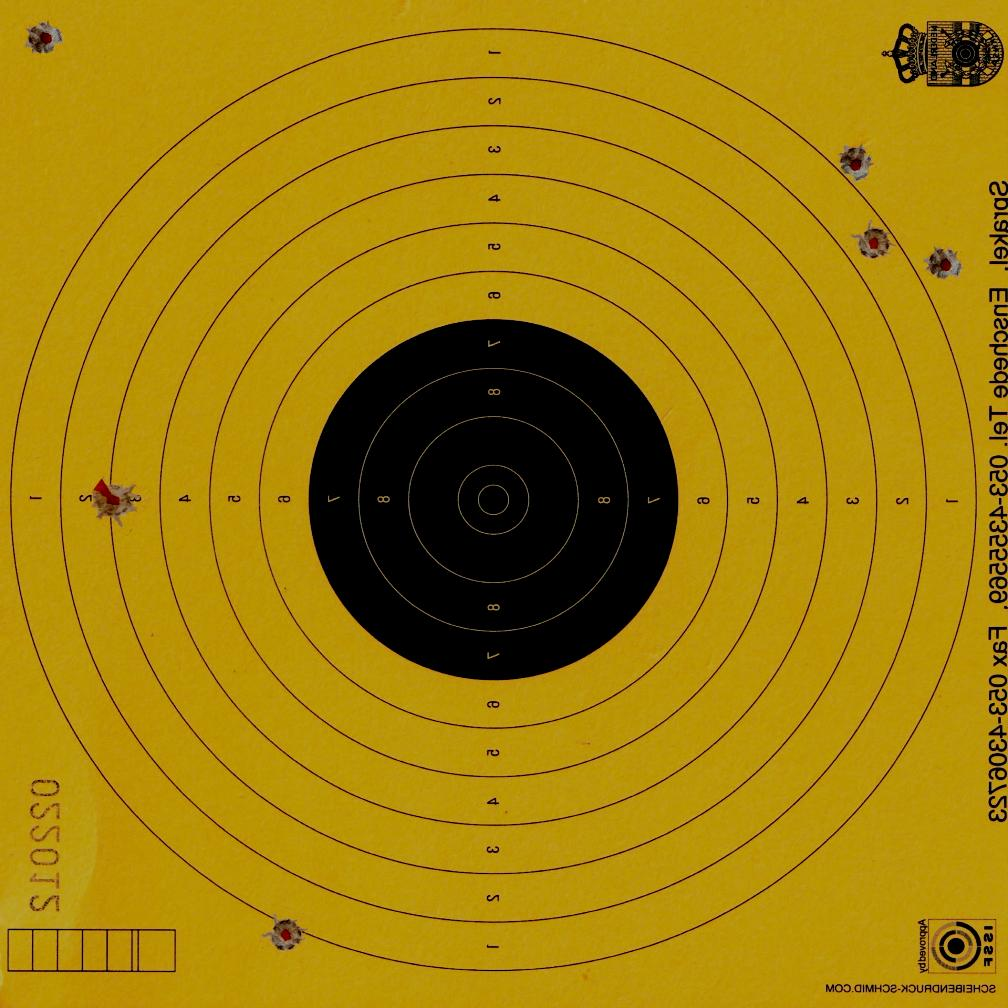0: (23, 16, 66, 57), (836, 143, 876, 183), (924, 245, 964, 281)
1: (261, 912, 309, 952), (851, 220, 897, 260)
3: (89, 477, 142, 527)
Target: (7, 26, 979, 978)
black_contour: (308, 318, 680, 682)
